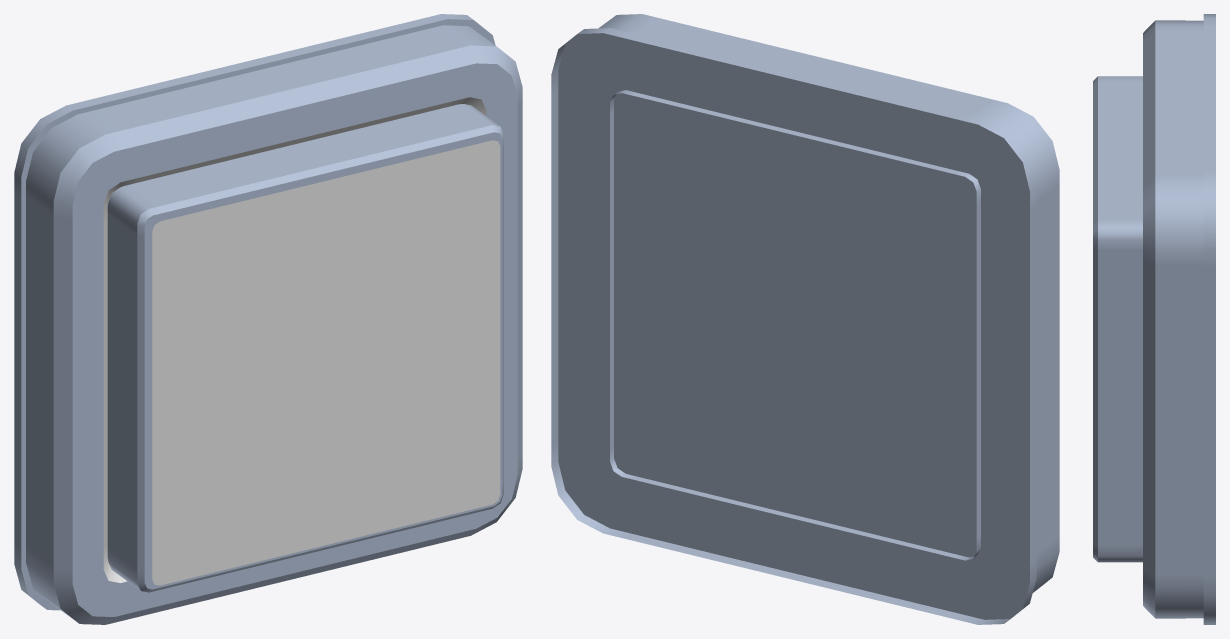
File: VBS.fbx
The picture shows the model from 3 angles, left to right: view 1: azimuth 30°, elevation 25°; view 2: azimuth 150°, elevation 25°; view 3: azimuth 270°, elevation 25°; orthographic projection. The views are drawn at different scales.
Parts seen in each view (by area): view 1: Switch.Up, Switch.Base, Switch.Down; view 2: Switch.Base, Switch.Down; view 3: Switch.Base, Switch.Up, Switch.Down.
Boxes of the visible parts, <box> form: Switch.Up: <box>107,107,503,592</box>; Switch.Base: <box>14,14,522,624</box>; Switch.Down: <box>107,104,474,572</box>; Switch.Base: <box>551,14,1059,624</box>; Switch.Down: <box>610,90,980,560</box>; Switch.Base: <box>1143,14,1215,624</box>; Switch.Up: <box>1093,76,1142,562</box>; Switch.Down: <box>1141,76,1142,562</box>.
Size of the model in its own units: 0.1 by 0.0999 by 0.0263.
